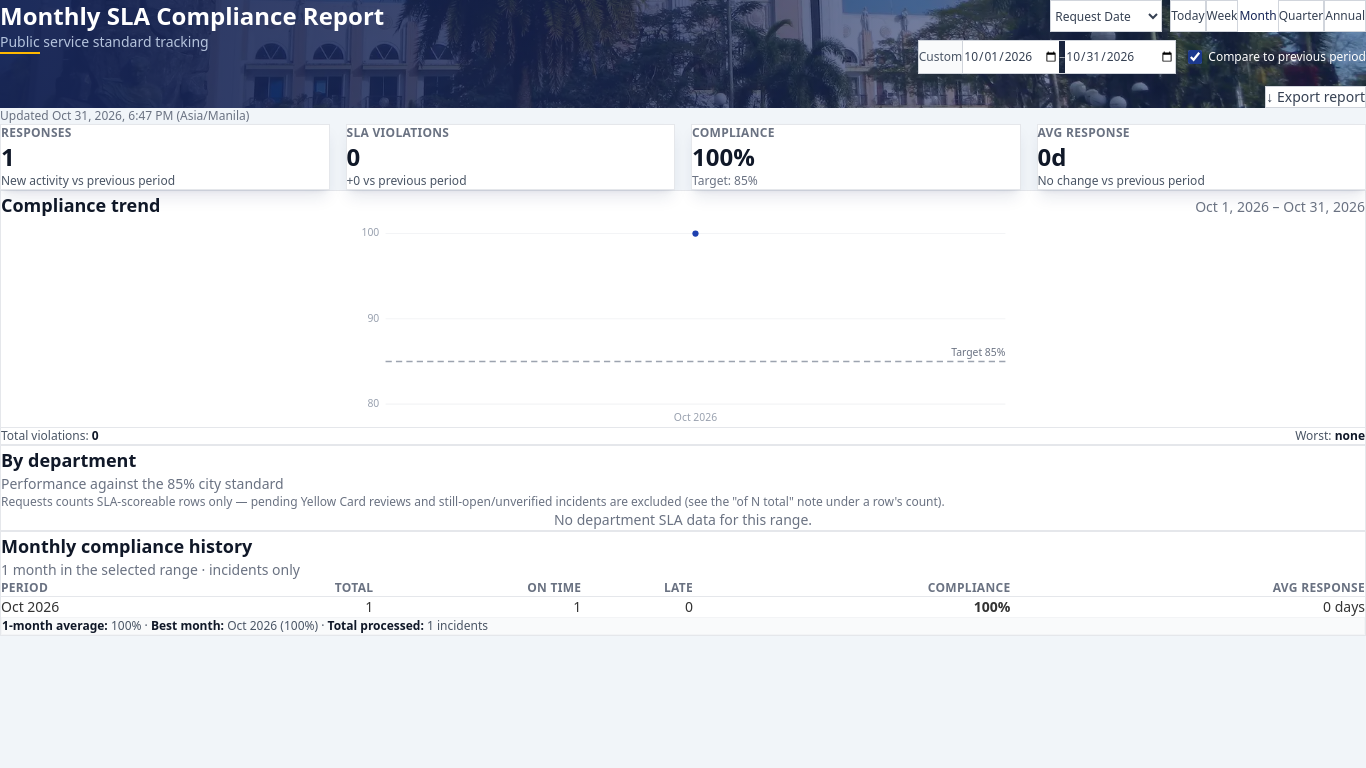
SLAReportsPage › the compare toggle shows and hides the derived comparison deltas
The image size is (1366, 768).
Expected: the text "No department SLA data for this range." is shown, [554,510,812,529]
Expected: the text "New activity vs previous period" is shown, [1,172,175,189]
Step 1. Click the checkbox labelled "Compare to previous period" → (1195, 57), box [1188,50,1202,64]
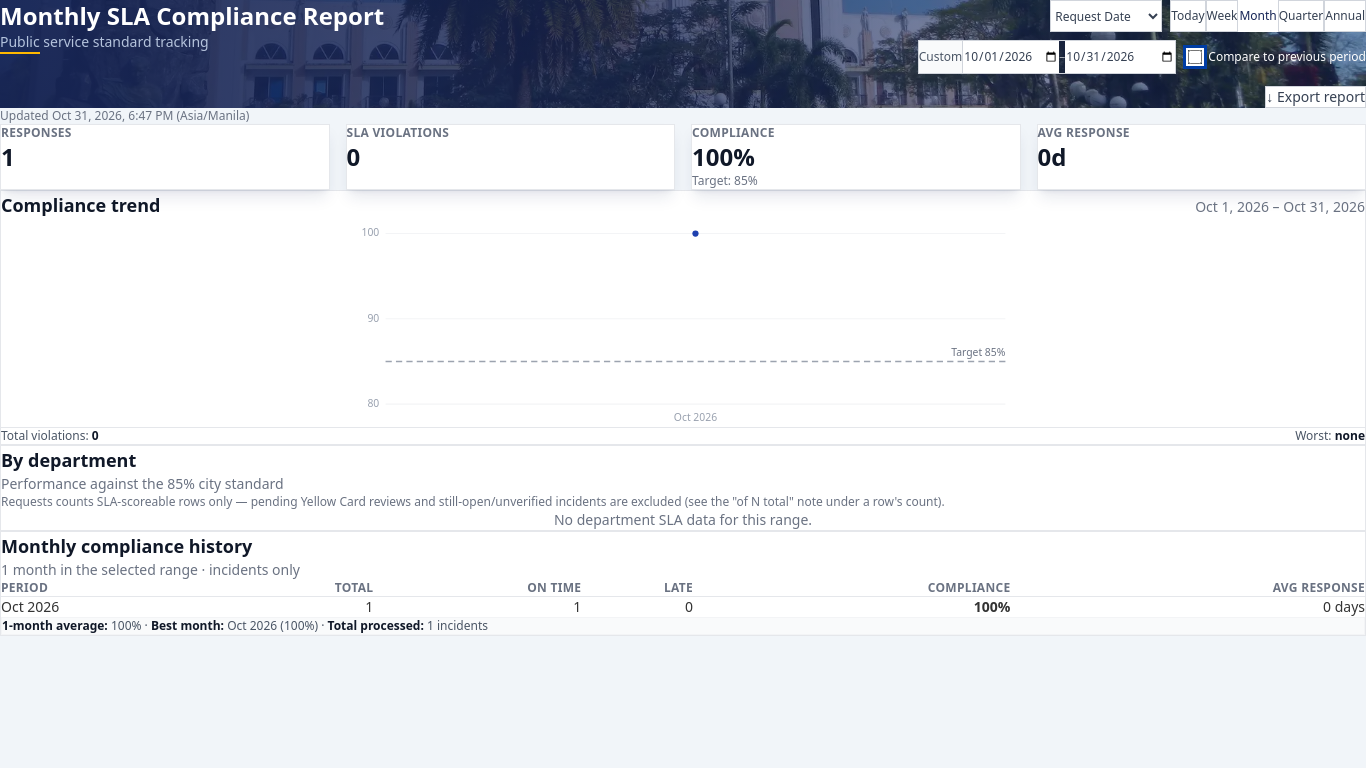
Expected: the text "New activity vs previous period" is gone
